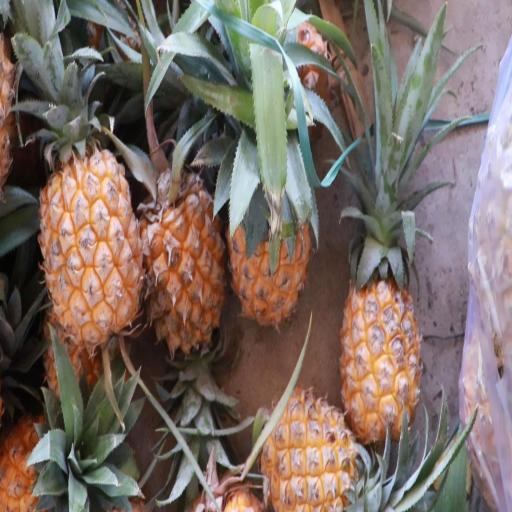Pineapple - v8 v1: (34, 126, 146, 358), (335, 214, 422, 456), (135, 164, 230, 366), (227, 133, 314, 335), (256, 388, 368, 512)
